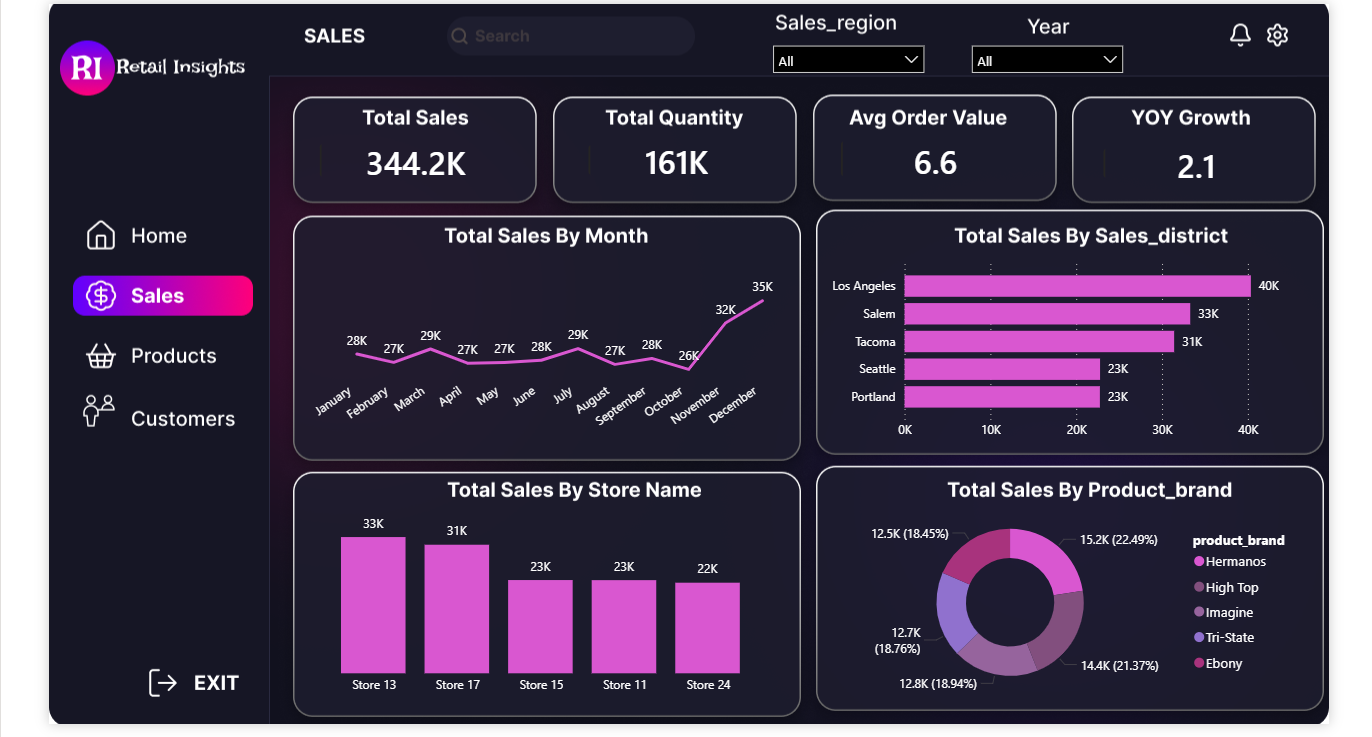

The dashboard page shown, as its layout file describes it:
{"tool":"powerbi","page":{"name":"Sales","canvas":[1280,720],"ordinal":1},"visuals":[{"type":"cardVisual","fields":{"Data":["Dax.Total Sales"]},"box":[254,122,226,68],"z":0},{"type":"cardVisual","fields":{"Data":["Dax.Total Quantity"]},"box":[522.6,123.8,210.7,65.5],"z":1000},{"type":"cardVisual","fields":{"Data":["Dax.Average Order Value"]},"box":[775,120.2,223.8,70.2],"z":2000},{"type":"lineChart","fields":{"Category":["retaildb calendar.date.Variation.Date Hierarchy.Month"],"Y":["Dax.Total Sales"]},"box":[255.7,244.3,477.1,200],"z":3000},{"type":"barChart","fields":{"Y":["Dax.Total Sales"],"Category":["retaildb region.sales_district"]},"box":[774.3,247.1,484.3,197.1],"z":4000},{"type":"slicer","fields":{"Values":["retaildb calendar.date.Variation.Date Hierarchy.Year"]},"box":[912.9,31.4,171.4,42.9],"z":5000},{"type":"slicer","fields":{"Values":["retaildb region.sales_region"]},"box":[714.3,31.4,171.4,42.9],"z":6000},{"type":"columnChart","fields":{"Y":["Dax.Total Sales"],"Category":["retaildb stores.store_name"]},"box":[254,498,478,202],"z":7000},{"type":"donutChart","fields":{"Category":["retaildb products.product_brand"],"Y":["Dax.Total Sales"]},"box":[774,498,484,202],"z":8000},{"type":"cardVisual","fields":{"Data":["Dax.YoY Growth"]},"box":[1038,128,220,64],"z":9000}]}

Visuals, with their boxes on the page's 1280x720 design canvas (x1, y1, x2, y2). These are canvas units, not pixel positions in the 1372x737 screenshot, which may show the page scaled, cropped or inside an application window:
cardVisual - Dax.Total Sales: 254 122 480 190
cardVisual - Dax.Total Quantity: 523 124 733 189
cardVisual - Dax.Average Order Value: 775 120 999 190
lineChart - retaildb calendar.date.Variation.Date Hierarchy.Month x Dax.Total Sales: 256 244 733 444
barChart - Dax.Total Sales x retaildb region.sales_district: 774 247 1259 444
slicer - retaildb calendar.date.Variation.Date Hierarchy.Year: 913 31 1084 74
slicer - retaildb region.sales_region: 714 31 886 74
columnChart - Dax.Total Sales x retaildb stores.store_name: 254 498 732 700
donutChart - retaildb products.product_brand x Dax.Total Sales: 774 498 1258 700
cardVisual - Dax.YoY Growth: 1038 128 1258 192
